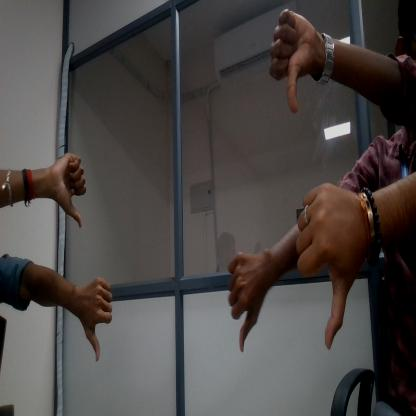Thumbs Down: (300, 180, 358, 338), (262, 10, 314, 124), (48, 134, 94, 242), (221, 247, 264, 357), (78, 271, 113, 362)
